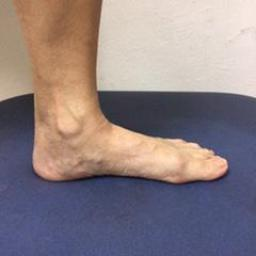Medial View -Left Foot-: (22, 90, 235, 200)
